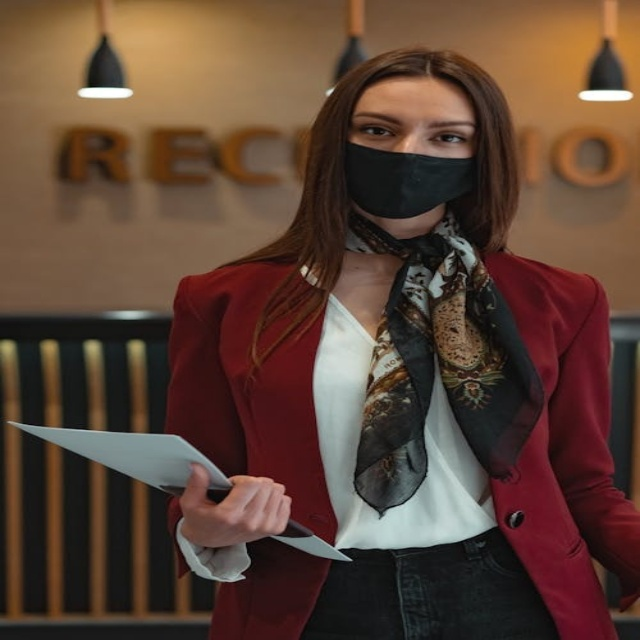Mascara: (343, 141, 477, 217)
Sin_gafas: (352, 110, 471, 149)
Sin_guantes: (176, 460, 296, 551)
